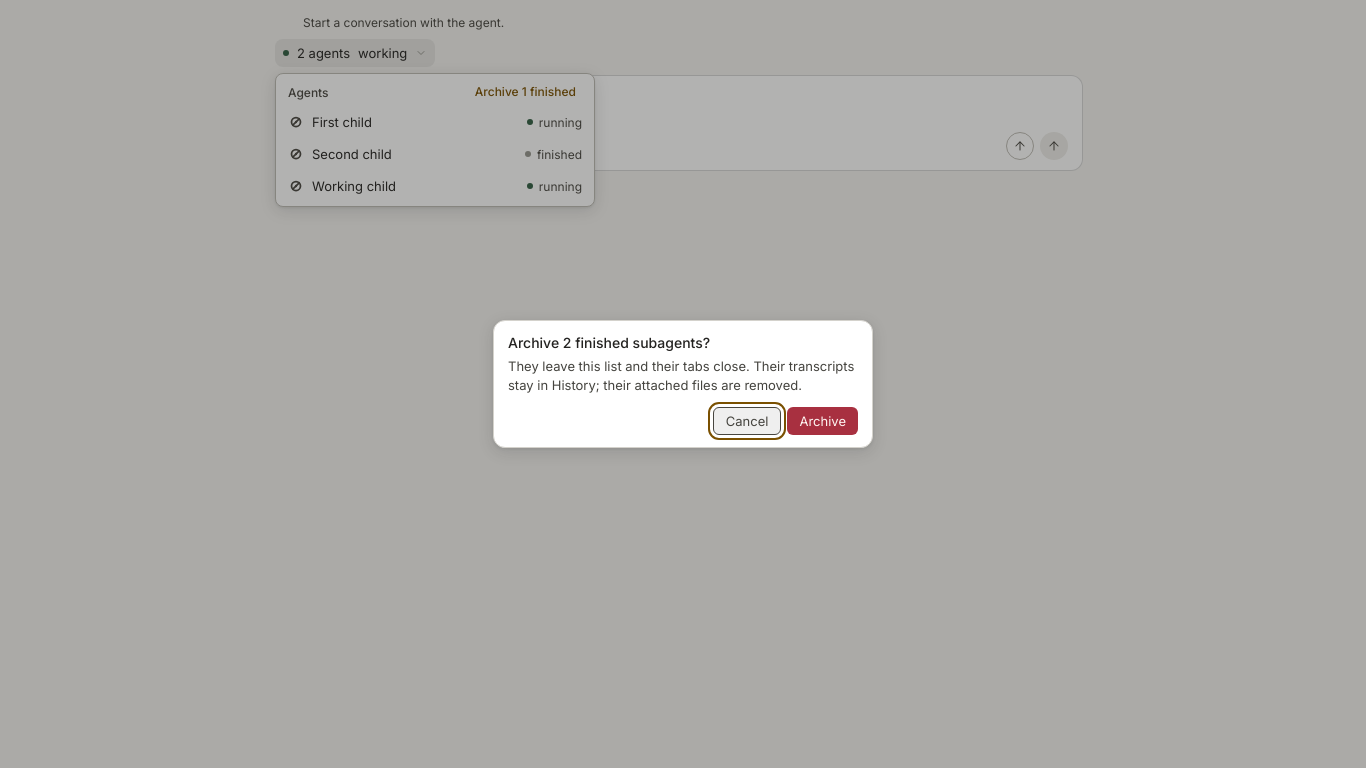
Test: the subagent menu's archive ask and its guard › leaves a child alone that restarted while the ask was open
Step 1. Click the button "Archive" → [823, 421], box [788,407,858,435]
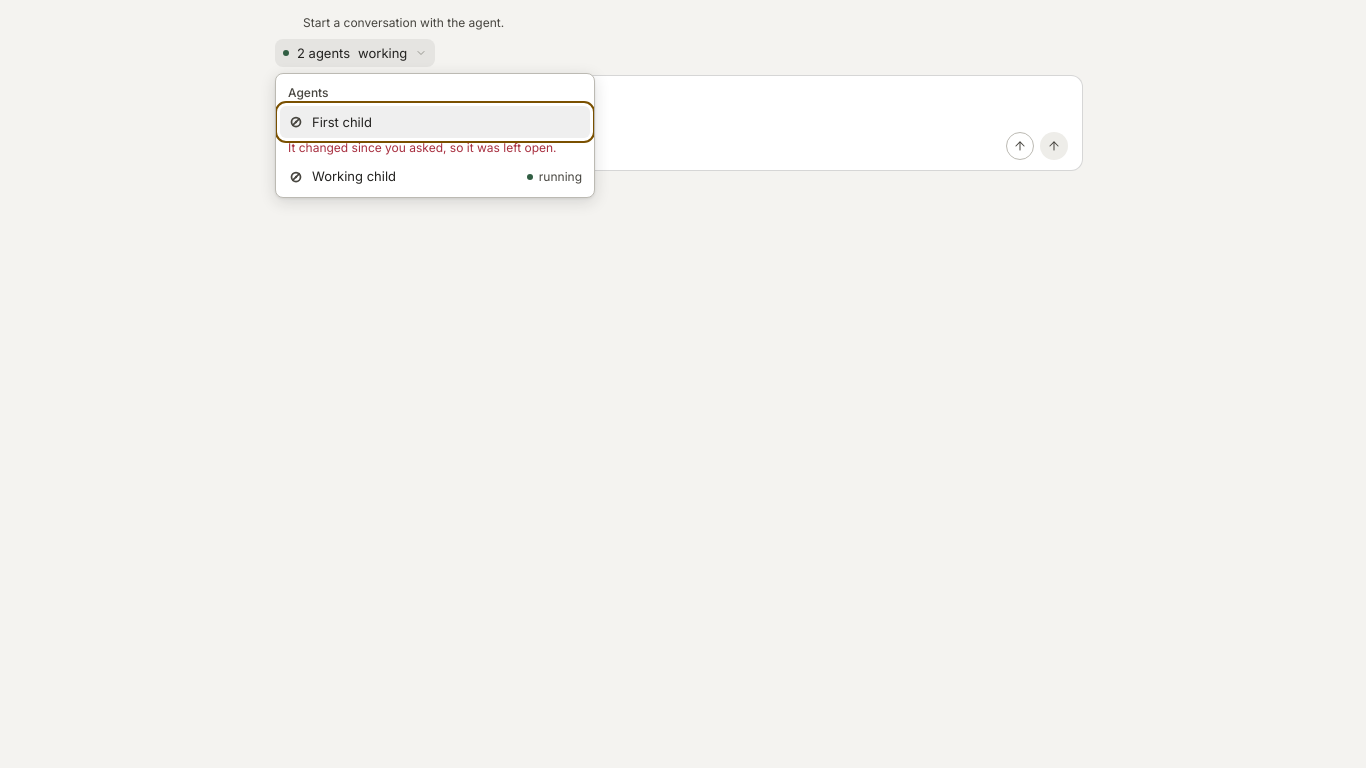
Now the text with class "workspace-subagent-row-failure" reads "It changed since you asked, so it was left open.", box [288,140,557,155]
